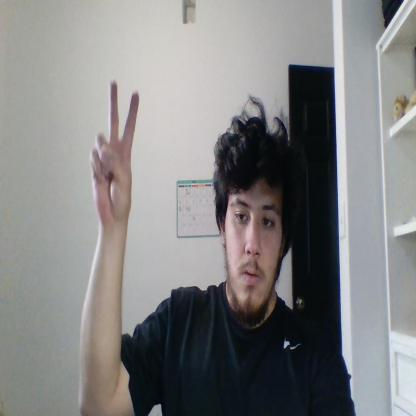V: (90, 79, 140, 222)
